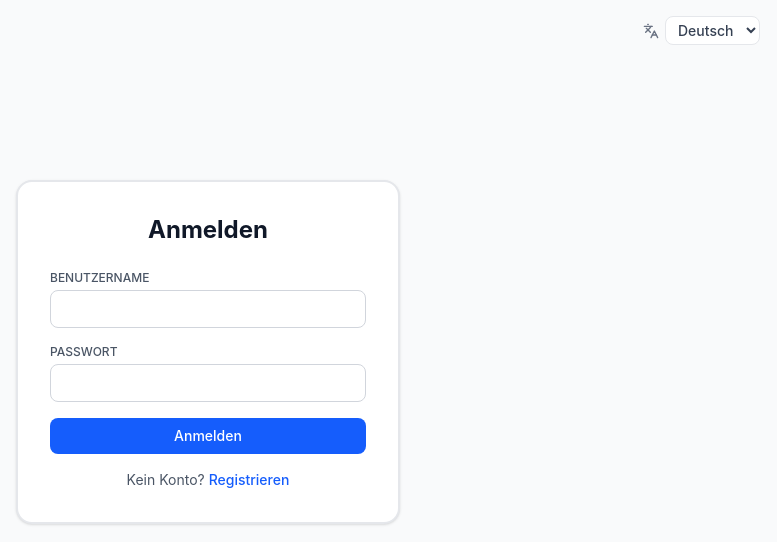
Test case: App language selection › switches to English and persists the choice in localStorage
This screenshot has width=777, height=542.
Select "Englisch" in the dropdown named "Sprache" at (712, 30), box [665,16,760,45]
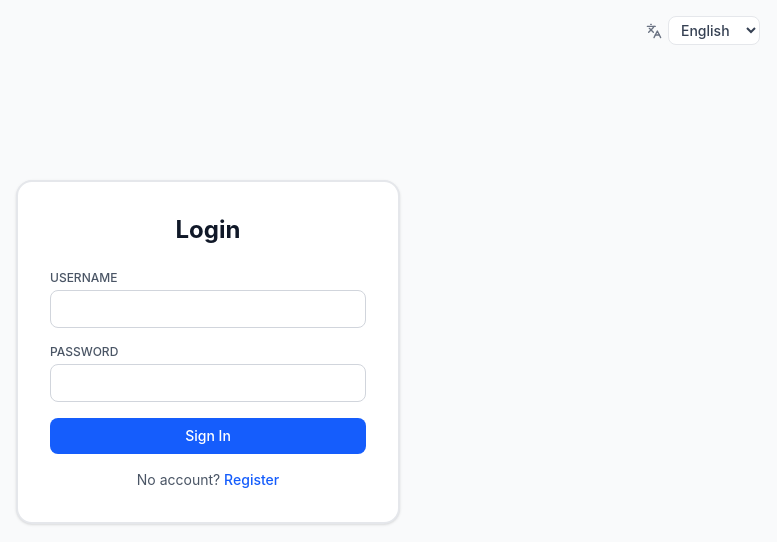
Now the heading "Login" is shown, box [176,215,240,244]
